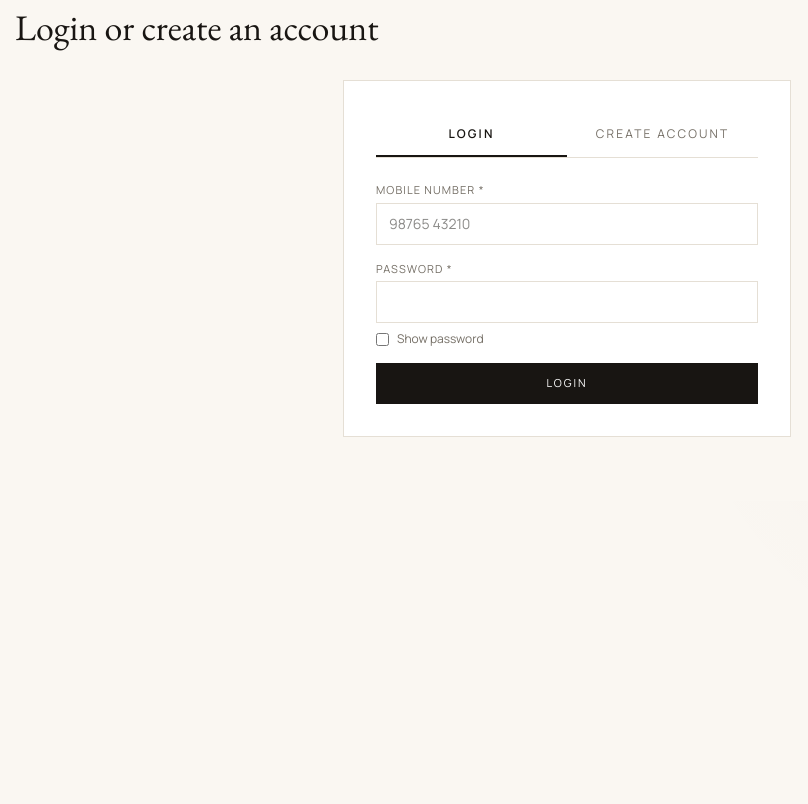
AccountView › displays a registration error
The width and height of the screenshot is (808, 804).
Step 1. Click the button "Create account" → [662, 135], box x1=567 y1=113 x2=758 y2=157
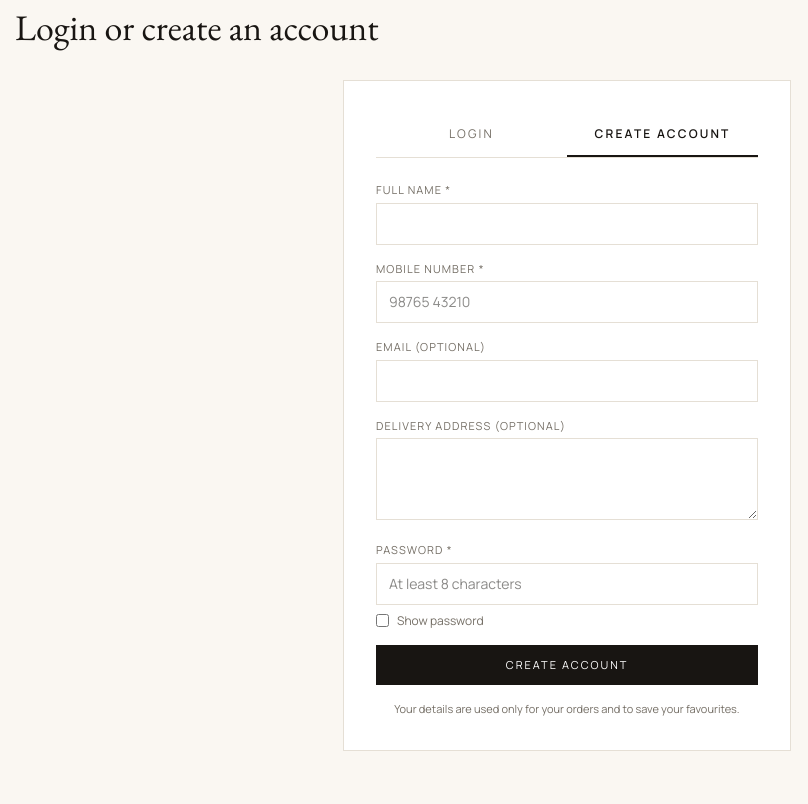
Step 2. Type "Ragul Kumar" into the field below "Full name *" → [567, 224], box x1=376 y1=202 x2=758 y2=244
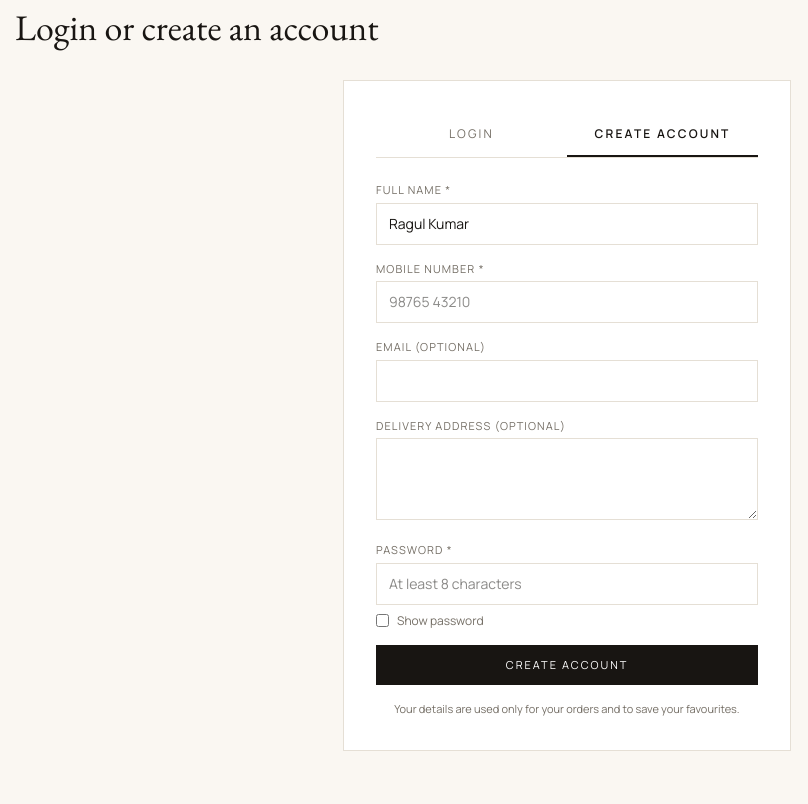
Step 3. Type "9876543210" into the field with placeholder "98765 43210" → [567, 302], box x1=376 y1=281 x2=758 y2=323
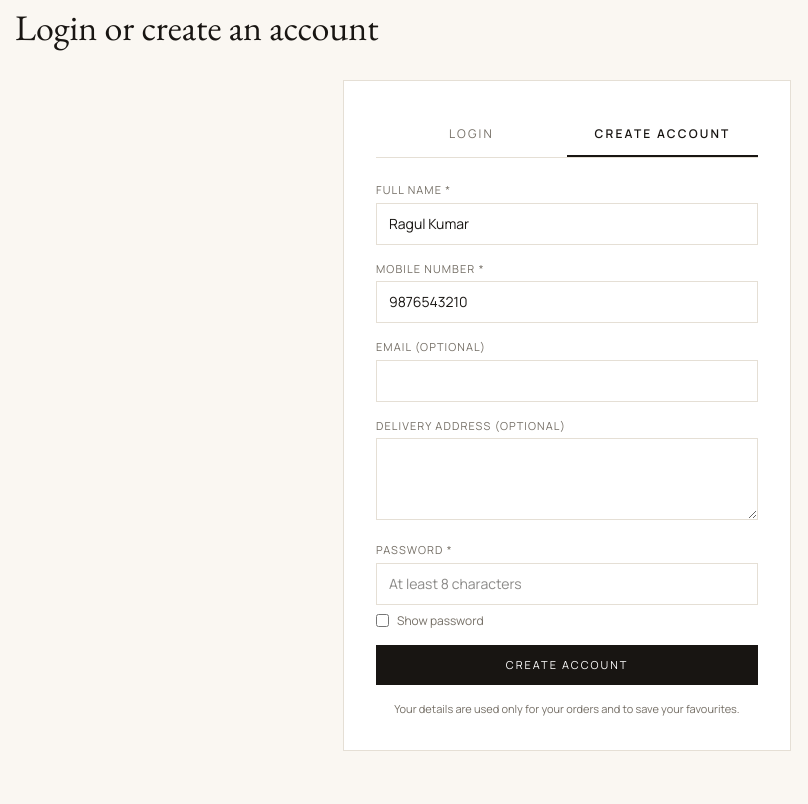
Step 4. Type "password123" into the password field with placeholder "At least 8 characters" → [567, 584], box x1=376 y1=562 x2=758 y2=604
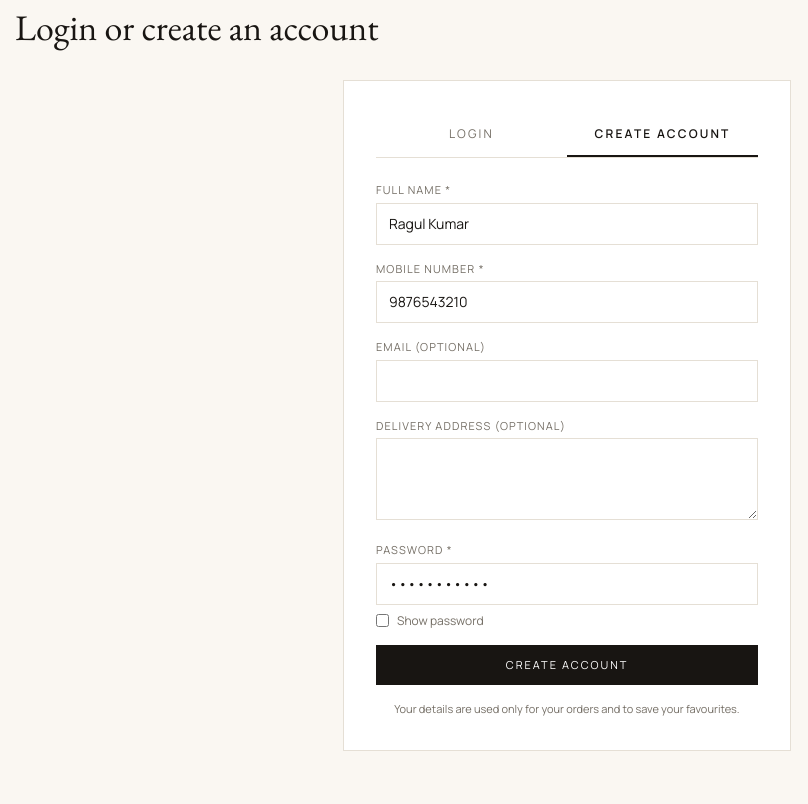
Step 5. Submit the form, box x1=376 y1=182 x2=758 y2=718
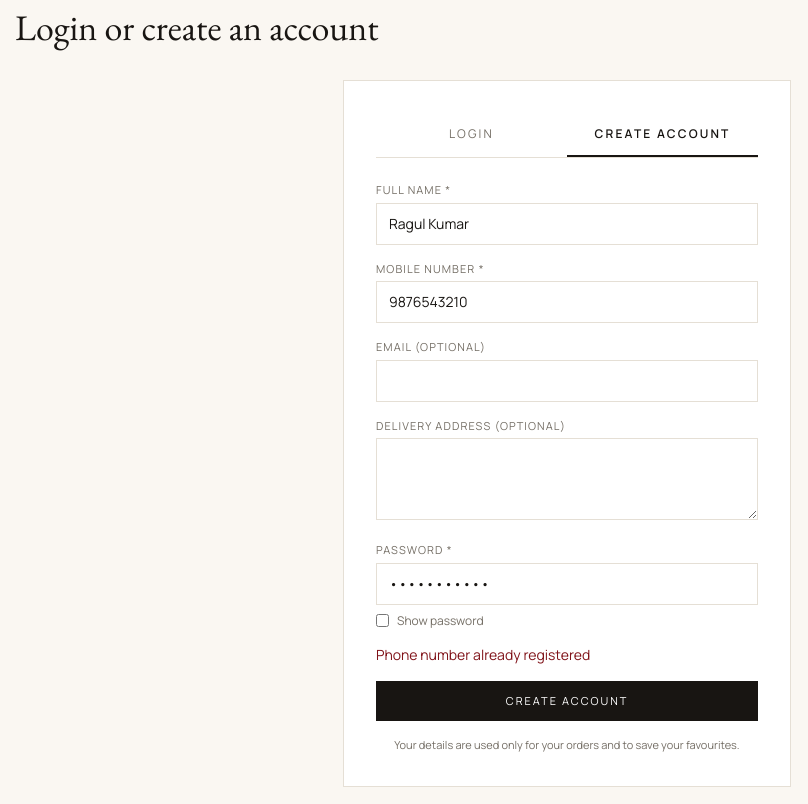
Result: the text "Phone number already registered" is shown at x1=376 y1=644 x2=590 y2=664
